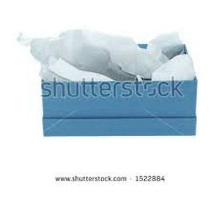book: (35, 39, 202, 141)
tissue: (7, 19, 203, 90)
